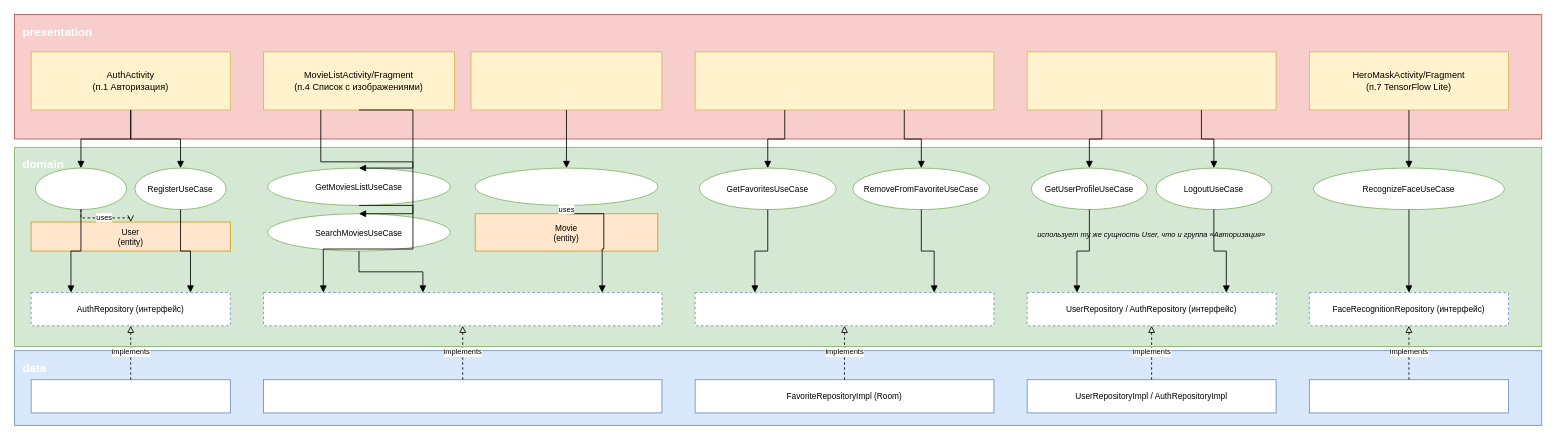
Image size: 1556x440. Some labels were removed from this diagram. Each missing label, with the centre of its shape:
"AuthRepositoryImpl" belongs at (130,396).
"FaceRecognitionRepositoryImpl (обёртка над TFLite-моделью)" belongs at (1408,396).
"FavoriteRepository (интерфейс)" belongs at (844,309).
"FavoritesActivity/Fragment (п.3 Сохранение в БД)" belongs at (844,80).
"GetMovieDetailsUseCase" belongs at (566,186).
"LoginUseCase" belongs at (80,188).
"MovieDetailsActivity/Fragment (п.5 Страница сущности)" belongs at (566,80).
"MovieRepository (интерфейс)" belongs at (462,309).
"MovieRepositoryImpl (практика 1: тестовые данные -> практика 5: TMDB)" belongs at (462,396).
"ProfileActivity/Fragment (п.6 Гость vs Авторизован)" belongs at (1151,80).
